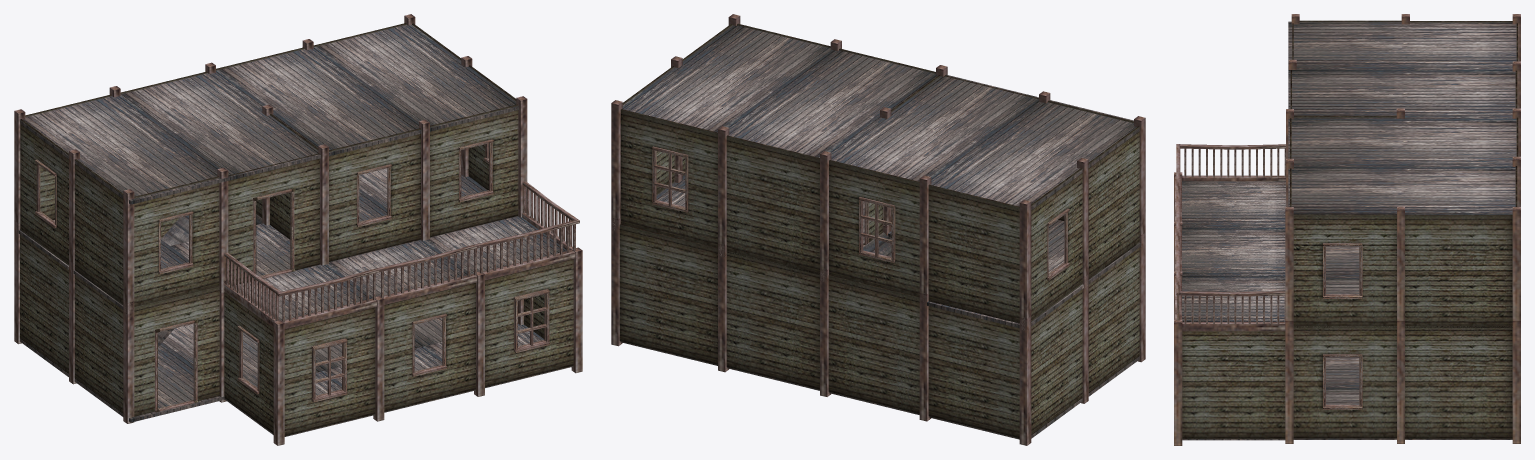
The model's file is house.FBX.
3 views of the same model, side by side, from view 1: azimuth 30°, elevation 25°; view 2: azimuth 150°, elevation 25°; view 3: azimuth 270°, elevation 25° (orthographic). The views are drawn at different scales.
Visible parts, largest first — view 1: Box124, Box055, Box026, Box054, Box014, Box025, Box050, Box125, Box052, Box023, Box063, Box035 (+40 smaller); view 2: Box065, Box124, Box127, Box126, Box063, Box034, Box035, Box128, Box085, Box043, Box071, Box039 (+15 smaller); view 3: Box124, Box061, Box033, Box029, Box048, Box074, Box080, Box079, Box078, Box125, Box117, Box116 (+11 smaller).
Boxes of the visible parts, x1=… form: Box124: x1=20, y1=24, x2=518, y2=204; Box055: x1=329, y1=128, x2=420, y2=261; Box026: x1=384, y1=283, x2=475, y2=411; Box054: x1=430, y1=104, x2=518, y2=237; Box014: x1=284, y1=307, x2=375, y2=436; Box025: x1=485, y1=259, x2=573, y2=387; Box050: x1=134, y1=176, x2=219, y2=306; Box125: x1=20, y1=318, x2=572, y2=436; Box052: x1=228, y1=153, x2=319, y2=285; Box023: x1=134, y1=286, x2=219, y2=416; Box063: x1=74, y1=159, x2=123, y2=304; Box035: x1=74, y1=269, x2=123, y2=413; Box065: x1=619, y1=135, x2=1019, y2=438; Box124: x1=622, y1=25, x2=1139, y2=209; Box127: x1=620, y1=109, x2=717, y2=247; Box126: x1=829, y1=160, x2=919, y2=296; Box063: x1=1088, y1=126, x2=1139, y2=278; Box034: x1=1031, y1=283, x2=1082, y2=434; Box035: x1=1088, y1=241, x2=1139, y2=392; Box128: x1=1031, y1=168, x2=1082, y2=319; Box085: x1=927, y1=220, x2=1140, y2=328; Box043: x1=1019, y1=316, x2=1031, y2=445; Box071: x1=1019, y1=199, x2=1031, y2=330; Box039: x1=919, y1=293, x2=931, y2=421; Box124: x1=1288, y1=21, x2=1516, y2=214; Box061: x1=1405, y1=214, x2=1512, y2=327; Box033: x1=1405, y1=326, x2=1512, y2=438; Box029: x1=1182, y1=331, x2=1285, y2=438; Box048: x1=1293, y1=326, x2=1396, y2=438; Box074: x1=1293, y1=214, x2=1396, y2=327; Box080: x1=1182, y1=181, x2=1285, y2=230; Box079: x1=1182, y1=230, x2=1285, y2=278; Box078: x1=1182, y1=278, x2=1285, y2=321; Box125: x1=1182, y1=357, x2=1512, y2=440; Box117: x1=1179, y1=144, x2=1285, y2=177; Box116: x1=1179, y1=291, x2=1285, y2=323.
Bounding box in the file's own units: 285 × 159 × 213.
